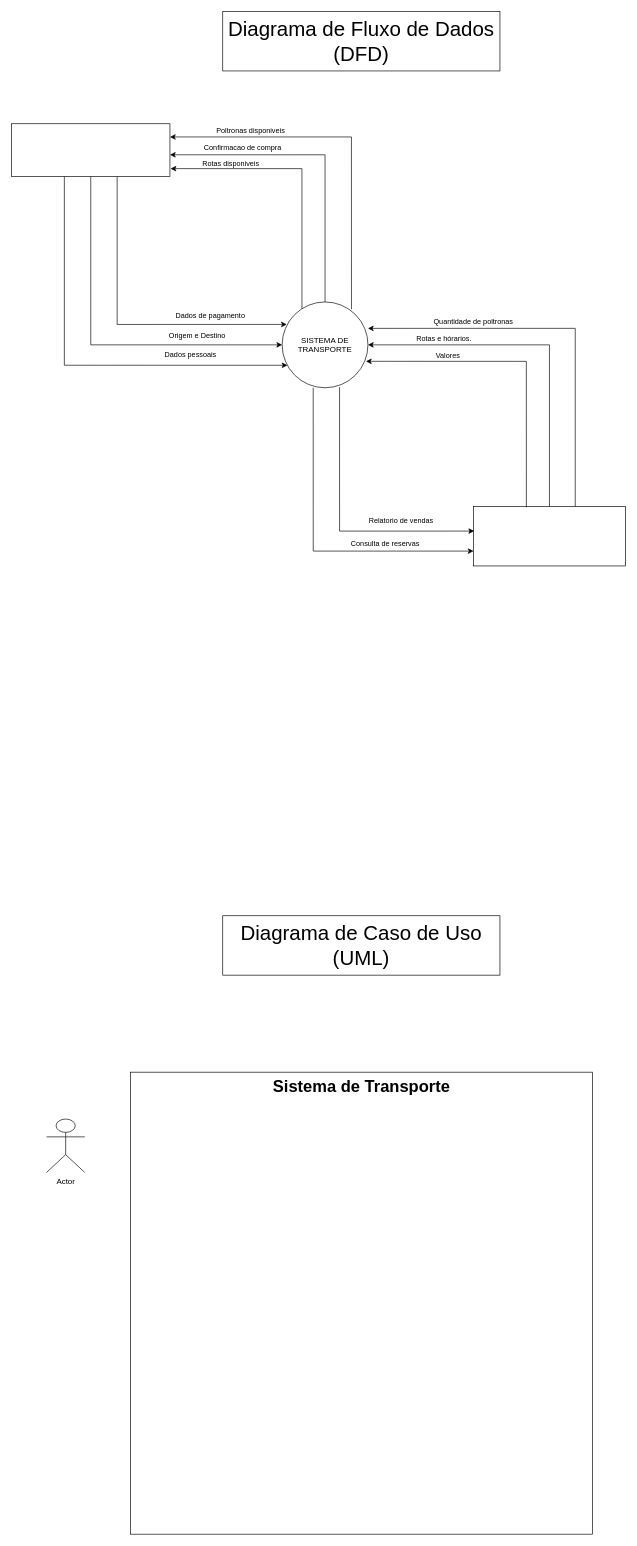
Image size: 637x1546. Some labels were removed from this diagram. The shapes that lost their labels are listed below. From the top down, each one's centre as x and y in pixels, then its label:
point 90,150: USUARIO
point 549,536: FUNCIONARIO
